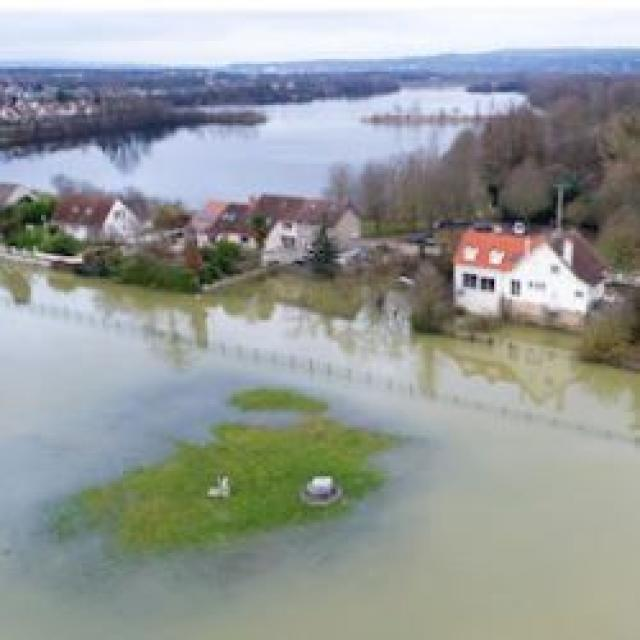flood: (0, 256, 640, 640), (35, 385, 428, 570), (0, 86, 528, 209), (0, 0, 640, 66)
house: (458, 222, 612, 330), (258, 194, 360, 252), (46, 195, 138, 250), (190, 198, 251, 246)
